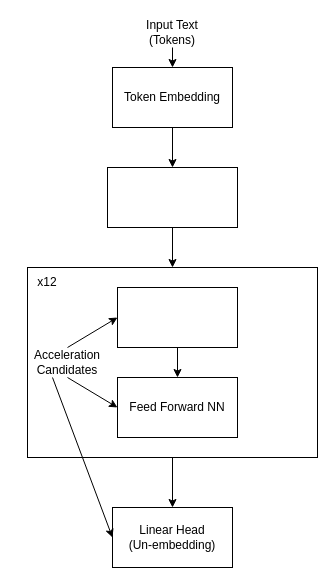
Image size: 335x585. Some labels were removed from this diagram. Each missing label, with the box of its shape:
Attention Block: (116, 286, 238, 348)
Positional Embedding: (106, 166, 238, 228)
